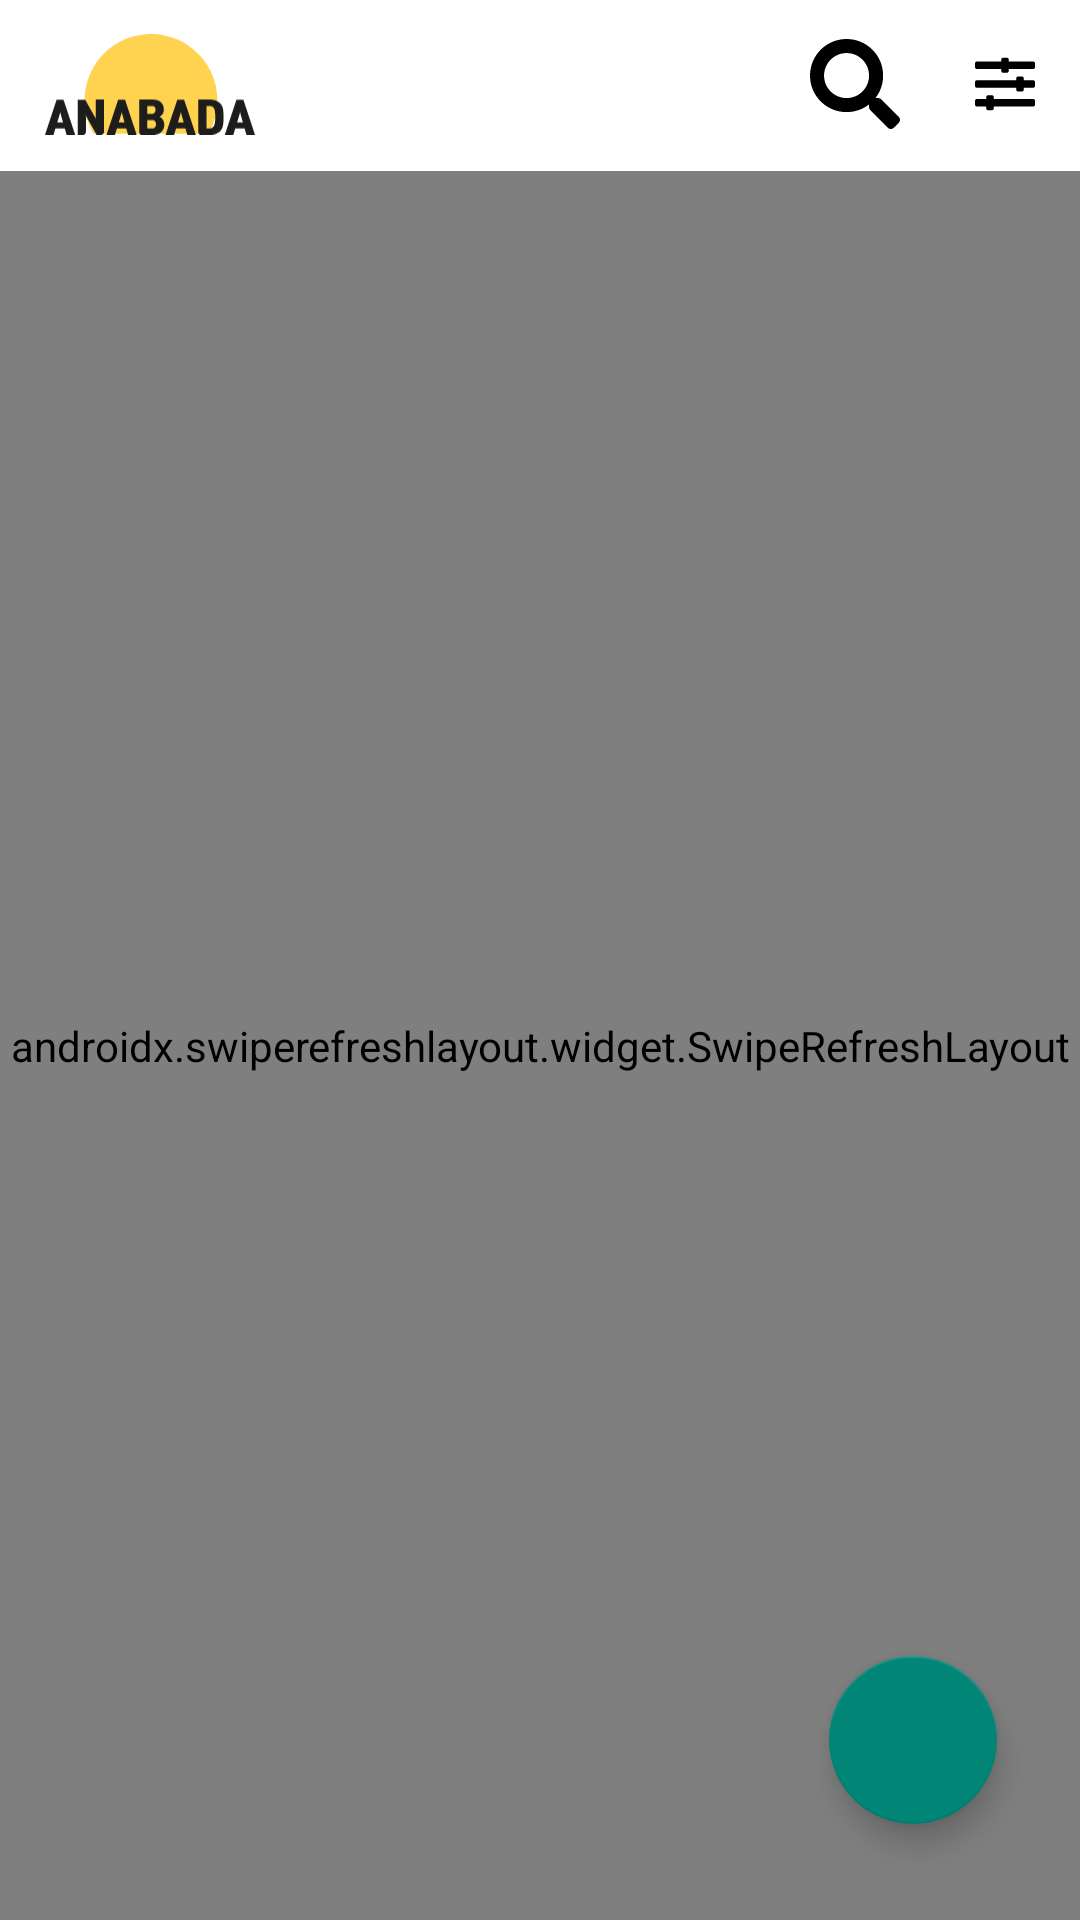

Where icons sit on this 1080*1920 app screen, as (x1, y1, x2, y2):
search: (810, 39, 900, 129)
sliders: (975, 57, 1035, 111)
